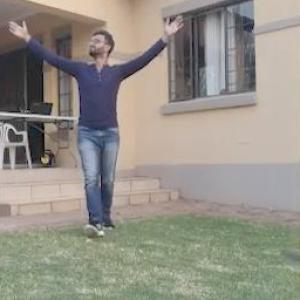takeoff: (13, 28, 177, 237)
